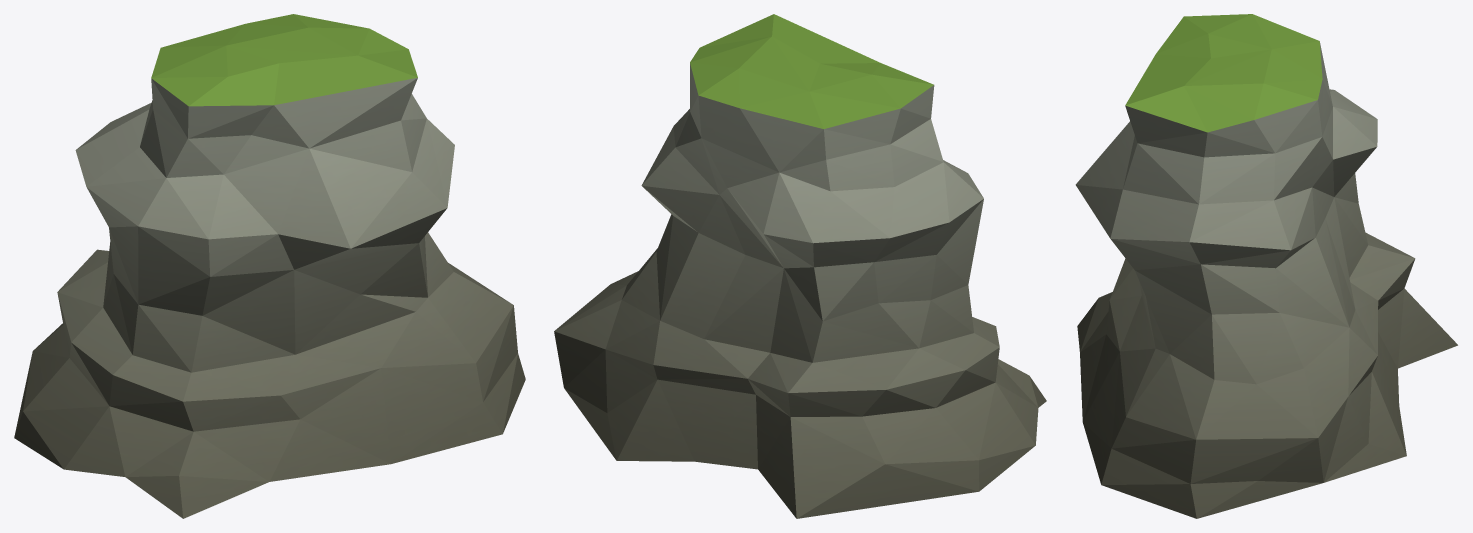
The model's file is ZLP_Rock_D_7.FBX.
3 renders of one model, left to right at view 1: azimuth 30°, elevation 25°; view 2: azimuth 150°, elevation 25°; view 3: azimuth 270°, elevation 25°, orthographic. The views are drawn at different scales.
Parts seen in each view (by area): view 1: ZLP_Rock_D_7; view 2: ZLP_Rock_D_7; view 3: ZLP_Rock_D_7.
Boxes of the visible parts, box(x1,y1,x2,y2) form: ZLP_Rock_D_7: box(14, 14, 525, 518); ZLP_Rock_D_7: box(554, 14, 1046, 518); ZLP_Rock_D_7: box(1075, 14, 1457, 518).
Size of the model in its own units: 134 by 104 by 102.
